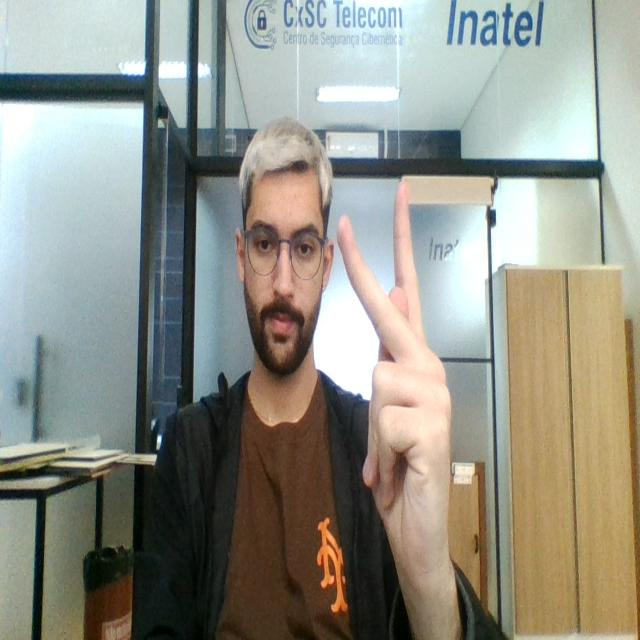K: (336, 190, 459, 548)
